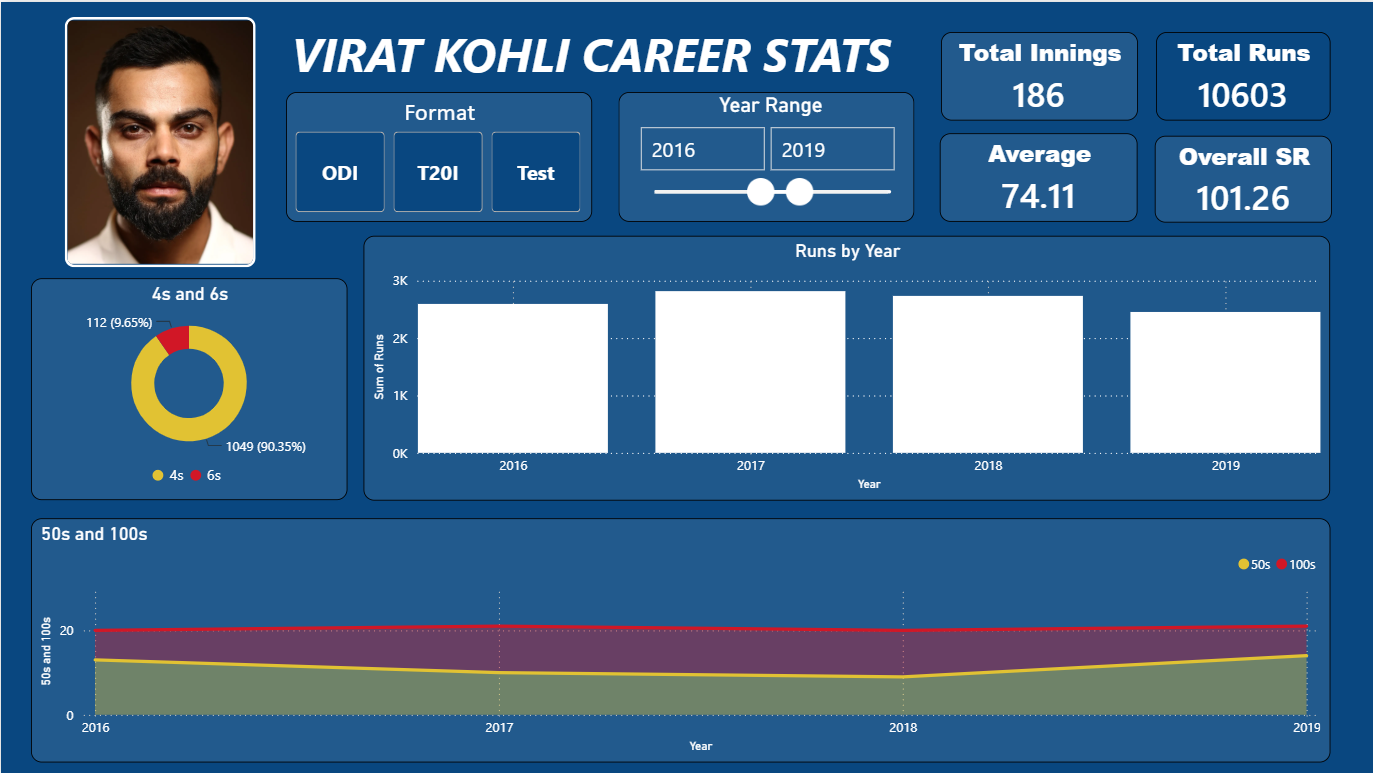

The dashboard page shown, as its layout file describes it:
{"tool":"powerbi","page":{"name":"Page ","canvas":[1280,720],"ordinal":0},"visuals":[{"type":"image","box":[59.1,13.8,177.4,232.4],"z":0},{"type":"cardVisual","title":"Total Innings","fields":{"Data":["Sum(Sheet1.Innings)"]},"box":[874.6,27.5,182.9,82.5],"z":1000},{"type":"textbox","box":[265.4,13.8,599.6,82.5],"z":2000},{"type":"cardVisual","title":"Total Runs","fields":{"Data":["Sum(Sheet1.Runs)"]},"box":[1074.3,27.5,162.3,82.5],"z":3000},{"type":"cardVisual","title":" Average","fields":{"Data":["Avg(Sheet1.Avg)"]},"box":[873.2,122.4,184.3,82.5],"z":4000},{"type":"advancedSlicerVisual","fields":{"Values":["Sheet1.Format"]},"box":[265.4,83.9,284.7,121],"z":5000},{"type":"cardVisual","title":"Overall SR","fields":{"Data":["Avg(Sheet1.SR)"]},"box":[1072.7,124.1,165,81.1],"z":6000},{"type":"clusteredColumnChart","title":"Runs by Year","fields":{"Category":["Sheet1.Year"],"Y":["Sum(Sheet1.Runs)"]},"box":[336.9,217.3,899.4,246.2],"z":7000},{"type":"slicer","title":"Year Range","fields":{"Values":["Sheet1.Year"]},"box":[574.8,83.9,275,121],"z":8000},{"type":"donutChart","title":"4s and 6s","fields":{"Y":["Sum(Sheet1.4s)","Sum(Sheet1.6s)"]},"box":[27.5,257.2,294.3,206.3],"z":9000},{"type":"stackedAreaChart","title":"50s and 100s ","fields":{"Category":["Sheet1.Year"],"Y":["Sum(Sheet1.50)","Sum(Sheet1.100)"]},"box":[27.5,479.9,1208.8,226.9],"z":10000}]}

Visuals, with their boxes in screenshot pixels (x1, y1, x2, y2), scaled from the page's 1280x720 canvas onto the 1373x773 screenshot:
image: region(63, 15, 254, 264)
"Total Innings" cardVisual: region(938, 30, 1134, 118)
textbox: region(285, 15, 928, 103)
"Total Runs" cardVisual: region(1152, 30, 1326, 118)
" Average" cardVisual: region(937, 131, 1134, 220)
advancedSlicerVisual - Sheet1.Format: region(285, 90, 590, 220)
"Overall SR" cardVisual: region(1151, 133, 1328, 220)
"Runs by Year" clusteredColumnChart: region(361, 233, 1326, 498)
"Year Range" slicer: region(617, 90, 912, 220)
"4s and 6s" donutChart: region(29, 276, 345, 498)
"50s and 100s " stackedAreaChart: region(29, 515, 1326, 759)
